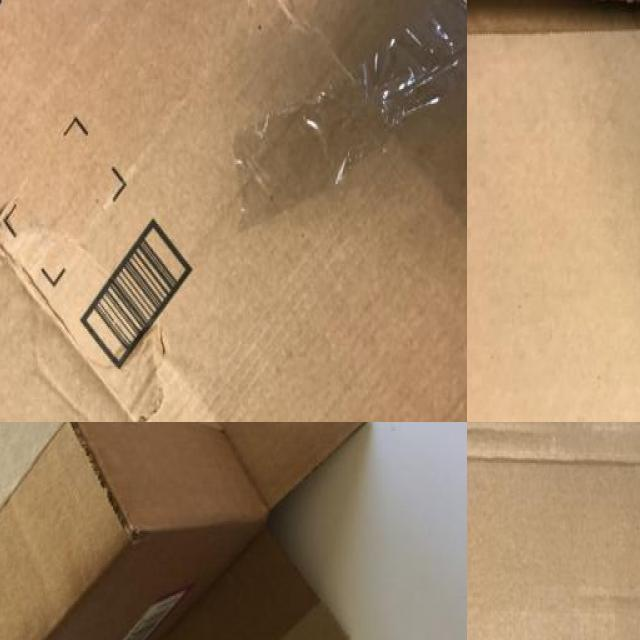class_name: (0, 0, 467, 422), (0, 422, 378, 640), (467, 0, 640, 422), (467, 422, 640, 640)
